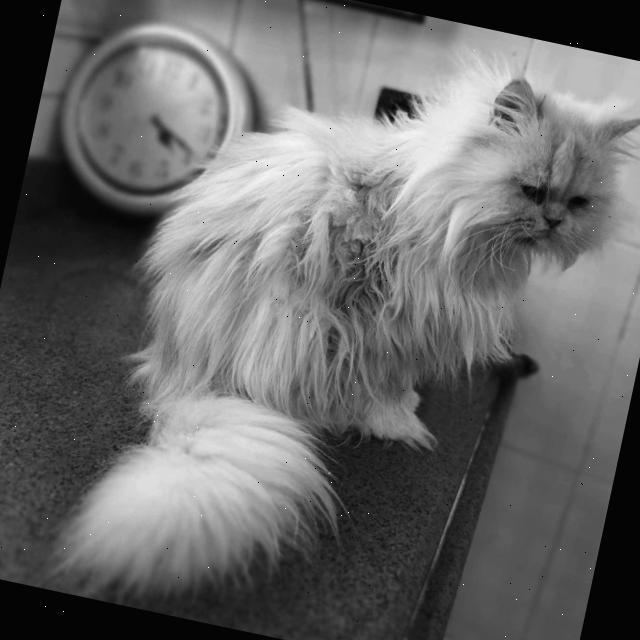persian_cat: (379, 46, 640, 305)
